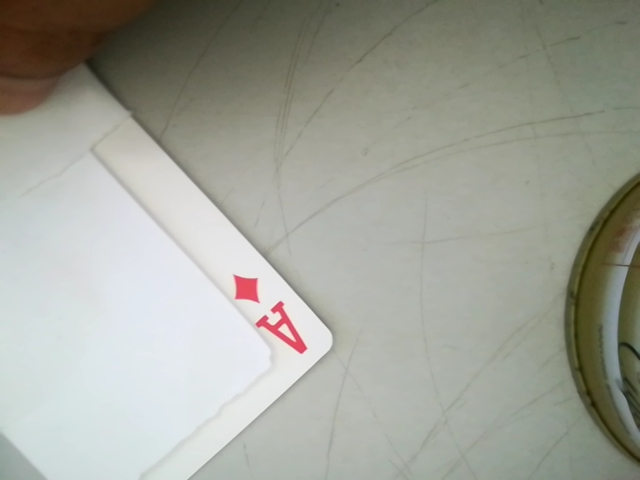fk a: (221, 269, 310, 362)
